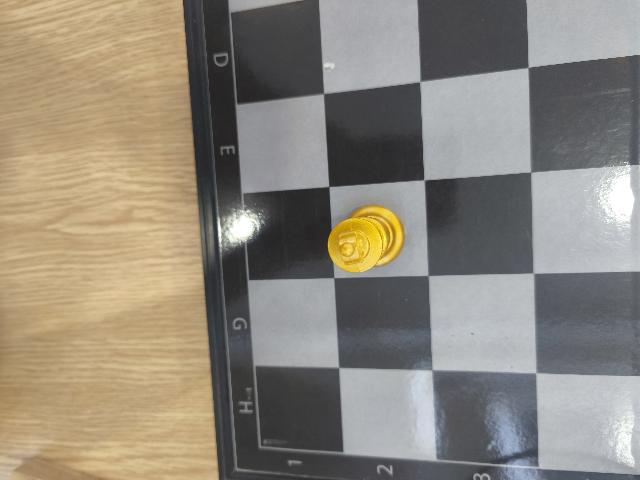black_king: (328, 204, 406, 275)
